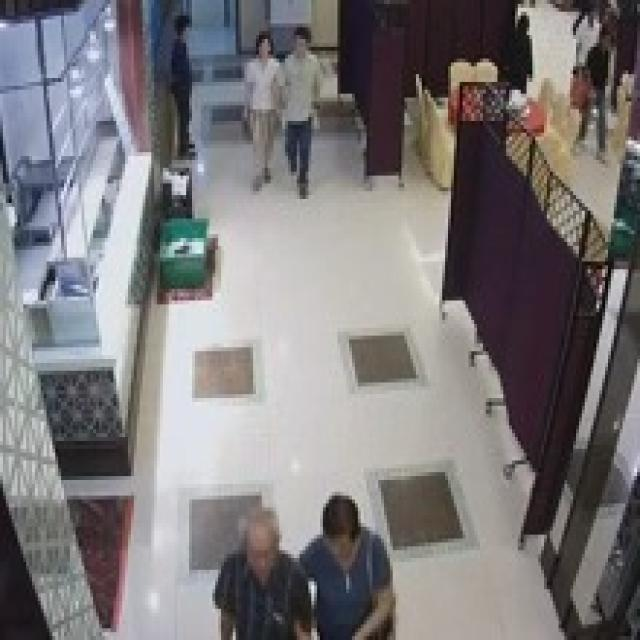Normal: (224, 440, 308, 640), (303, 442, 385, 640), (279, 20, 329, 202), (157, 9, 214, 166), (235, 17, 282, 195)
